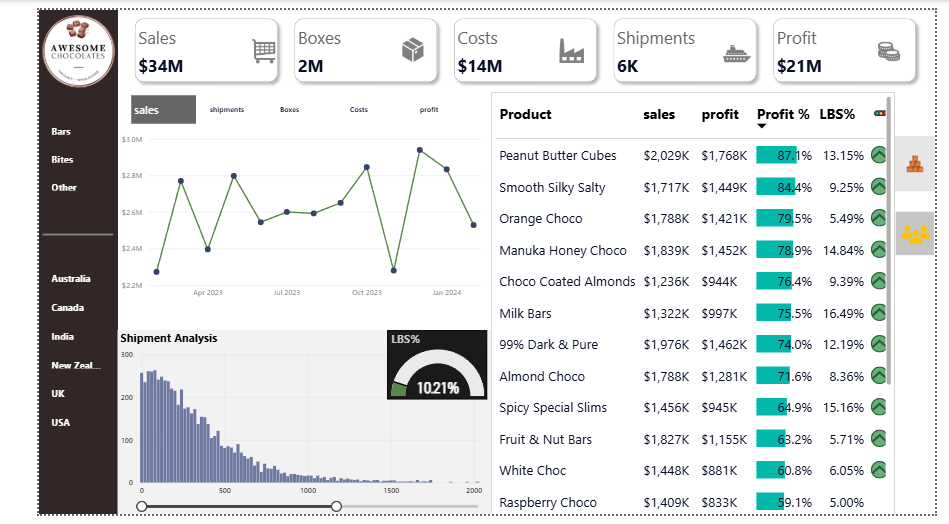

This screenshot's page, from the dashboard's own definition file:
{"tool":"powerbi","page":{"name":"sales","canvas":[1280,720],"ordinal":0},"visuals":[{"type":"shape","box":[0,0,112.9,922.9],"z":0},{"type":"cardVisual","fields":{"Data":["_measures.Total sales","_measures.Total Boxes","_measures.Total Costs","_measures.Total shipments","_measures.Total profit"]},"box":[112.9,0,1157.5,117],"z":1000},{"type":"lineChart","fields":{"Y":["_measures.Total sales"],"Category":["calendar.Start of Month"]},"box":[112.9,169.3,534,251.9],"z":3000},{"type":"columnChart","title":"Shipment Analysis","fields":{"Category":["shipments.Boxes (bins)"],"Y":["_measures.Total shipments"]},"box":[111.5,456.9,534,262.9],"z":4000},{"type":"gauge","fields":{"Y":["_measures.LBS%"]},"box":[496.9,456.9,143.1,99.1],"z":5000},{"type":"tableEx","title":"product","fields":{"Values":["products.Product","_measures.Total sales","_measures.Total profit","_measures.Profit %","_measures.LBS%","_measures.Profit target indicator"]},"box":[645.7,117.1,577.1,690],"z":7000},{"type":"image","title":"people","box":[1222.9,287.1,57.1,64.3],"z":8000},{"type":"image","title":"logo","box":[0,1.4,112.9,115.7],"z":9000},{"type":"image","title":"product","box":[1222.9,180,57.1,78.6],"z":10000},{"type":"listSlicer","fields":{"Values":["products.Category"]},"box":[0,126.6,111.5,374.4],"z":11000},{"type":"listSlicer","fields":{"Values":["locations.Geo"]},"box":[0,337.1,112.9,382.9],"z":12000},{"type":"image","box":[293.2,33,59.2,52.3],"z":13000},{"type":"image","box":[506.5,27.5,53.7,59.2],"z":14000},{"type":"image","box":[971.7,35.8,52.3,53.7],"z":15000},{"type":"image","box":[1182.3,35.8,61.9,46.8],"z":16000},{"type":"image","box":[730.8,28.9,59.2,59.2],"z":17000},{"type":"advancedSlicerVisual","fields":{"Values":["measure selector .measure selector "]},"box":[126.6,117,503.7,50.9],"z":18000},{"type":"image","box":[0,304.2,111.5,33],"z":19000}]}

Visuals, with their boxes in screenshot pixels (x1, y1, x2, y2), scaled from the page's 1280x720 canvas onto the 949x524 screenshot:
shape: locate(0, 0, 84, 523)
cardVisual - _measures.Total sales x _measures.Total Boxes: locate(84, 0, 942, 85)
lineChart - _measures.Total sales x calendar.Start of Month: locate(84, 123, 480, 307)
"Shipment Analysis" columnChart: locate(83, 333, 479, 523)
gauge - _measures.LBS%: locate(368, 333, 474, 405)
"product" tableEx: locate(479, 85, 907, 523)
"people" image: locate(907, 209, 948, 256)
"logo" image: locate(0, 1, 84, 85)
"product" image: locate(907, 131, 948, 188)
listSlicer - products.Category: locate(0, 92, 83, 365)
listSlicer - locations.Geo: locate(0, 245, 84, 523)
image: locate(217, 24, 261, 62)
image: locate(376, 20, 415, 63)
image: locate(720, 26, 759, 65)
image: locate(877, 26, 922, 60)
image: locate(542, 21, 586, 64)
advancedSlicerVisual - measure selector .measure selector : locate(94, 85, 467, 122)
image: locate(0, 221, 83, 245)
